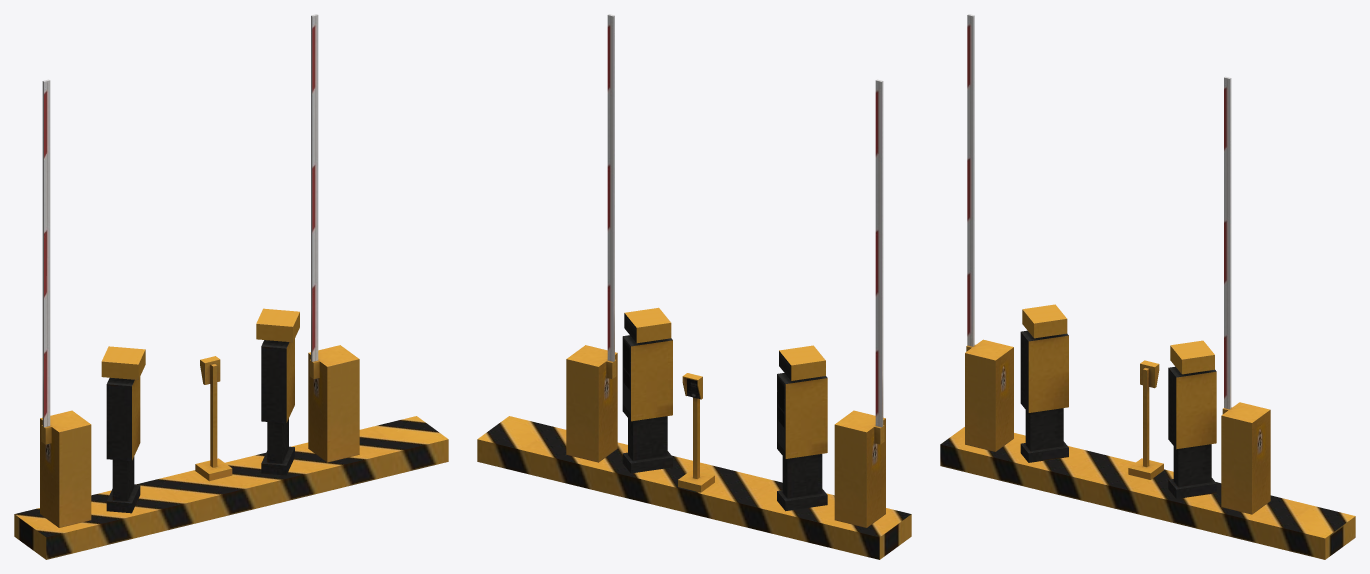
Rendered from LPR.gltf.
3 views of the same model, side by side, from view 1: azimuth 30°, elevation 25°; view 2: azimuth 150°, elevation 25°; view 3: azimuth 330°, elevation 25° (orthographic). The views are drawn at different scales.
Parts seen in each view (by area): view 1: lpr; view 2: lpr; view 3: lpr.
Part boxes in pixels (box(x1,y1,x2,y2)): lpr: box(14, 14, 448, 559); lpr: box(477, 14, 911, 559); lpr: box(940, 14, 1355, 559).
Bounding box in the file's own units: 37.99 × 41.84 × 5.21.
Materials: 1 (1 with a texture image).
